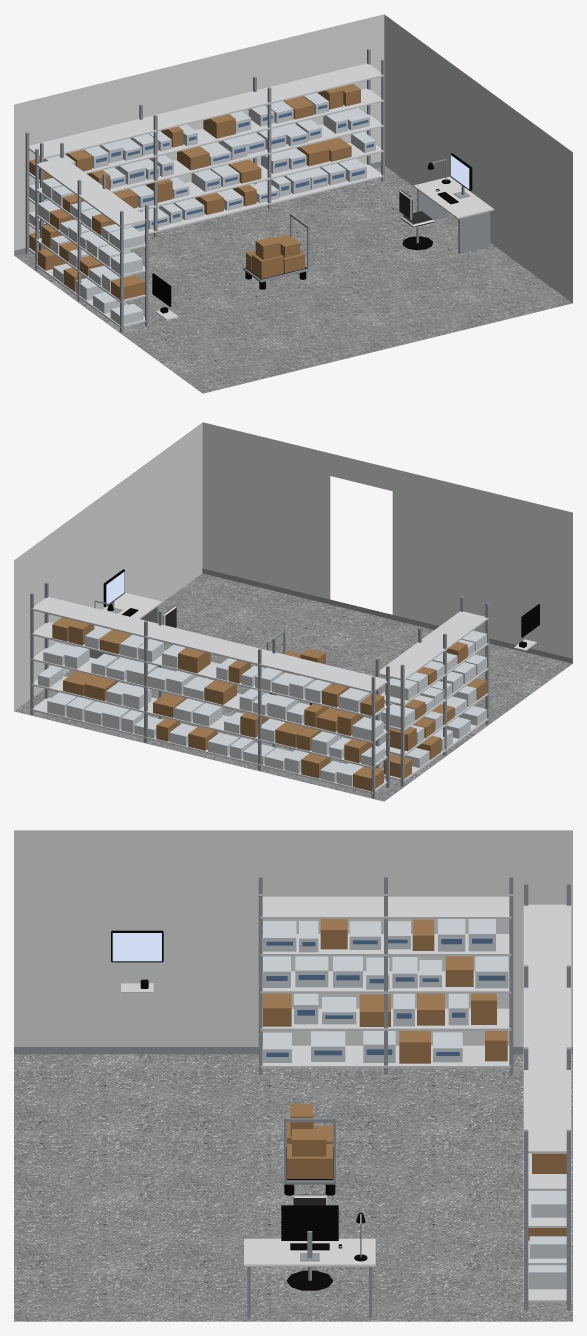
File: room-stock.glb
The picture shows the model from 3 angles, top to bottom: view 1: azimuth 30°, elevation 25°; view 2: azimuth 150°, elevation 25°; view 3: azimuth 270°, elevation 25°; orthographic projection. The views are drawn at different scales.
Visible parts, largest first — view 1: stock_shell, stock_boxes, stock_racking, procura_desk, stock_trolley, pims_tablet; view 2: stock_shell, stock_boxes, stock_racking, procura_desk, pims_tablet, stock_trolley; view 3: stock_shell, stock_racking, stock_boxes, procura_desk, stock_trolley, screen_pims, pims_tablet.
Boxes of the visible parts, x1,y1,x2,y2 form: stock_shell: (14,14,572,393); stock_boxes: (29,84,375,324); stock_racking: (25,49,384,332); procura_desk: (399,153,494,253); stock_trolley: (243,213,309,289); pims_tablet: (152,273,178,320); stock_shell: (14,422,572,801); stock_boxes: (38,617,486,791); stock_racking: (30,582,489,798); procura_desk: (89,569,176,666); pims_tablet: (513,604,539,651); stock_trolley: (266,629,325,704); stock_shell: (14,830,572,1321); stock_racking: (258,876,571,1310); stock_boxes: (263,919,566,1289); procura_desk: (244,1194,375,1318); stock_trolley: (283,1104,336,1195); screen_pims: (112,933,161,961); pims_tablet: (111,930,163,993).
Bounding box in the file's own units: 7.7 × 3 × 6.8.
13 materials, 1 textured.
